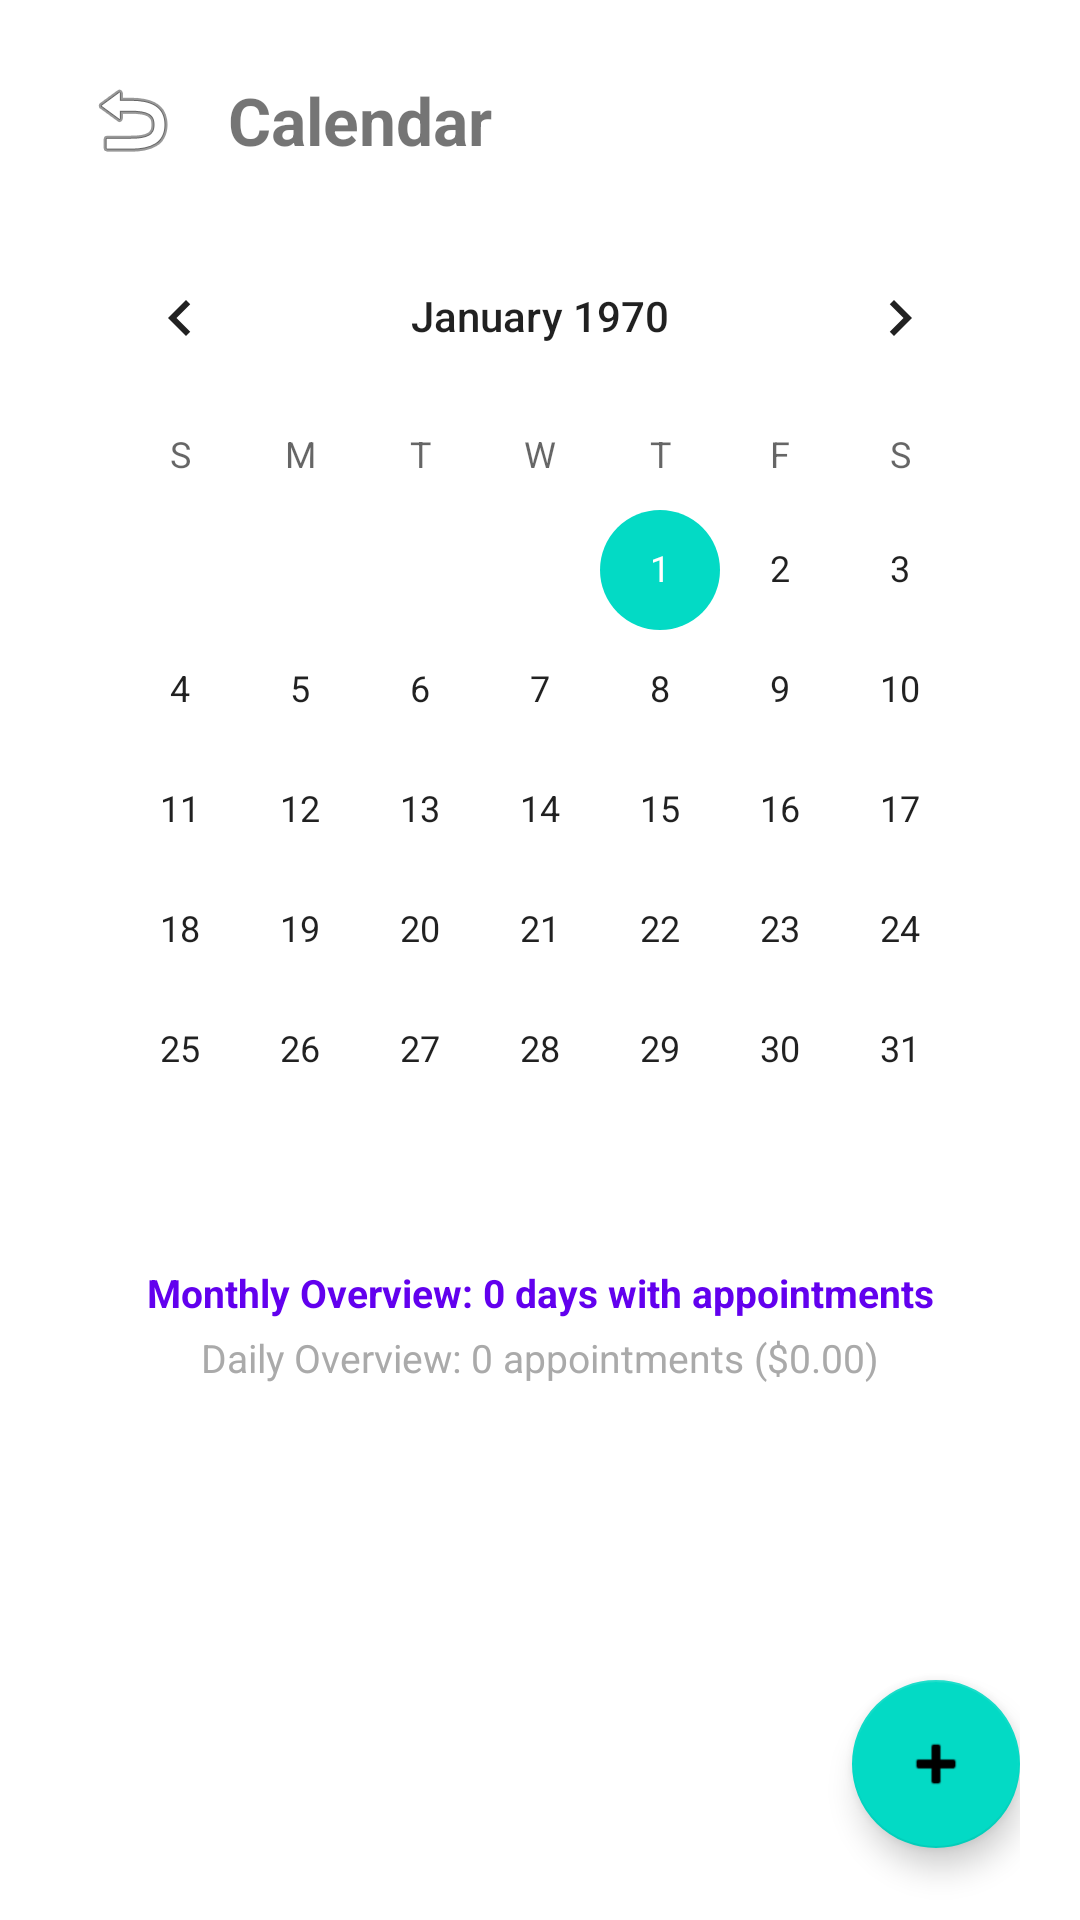

Icons on this 1080x1920 Android screen, each with its box as (x1, y1, x2, y2):
Add Appointment: (852, 1680, 1020, 1848)
Back: (99, 89, 168, 152)
